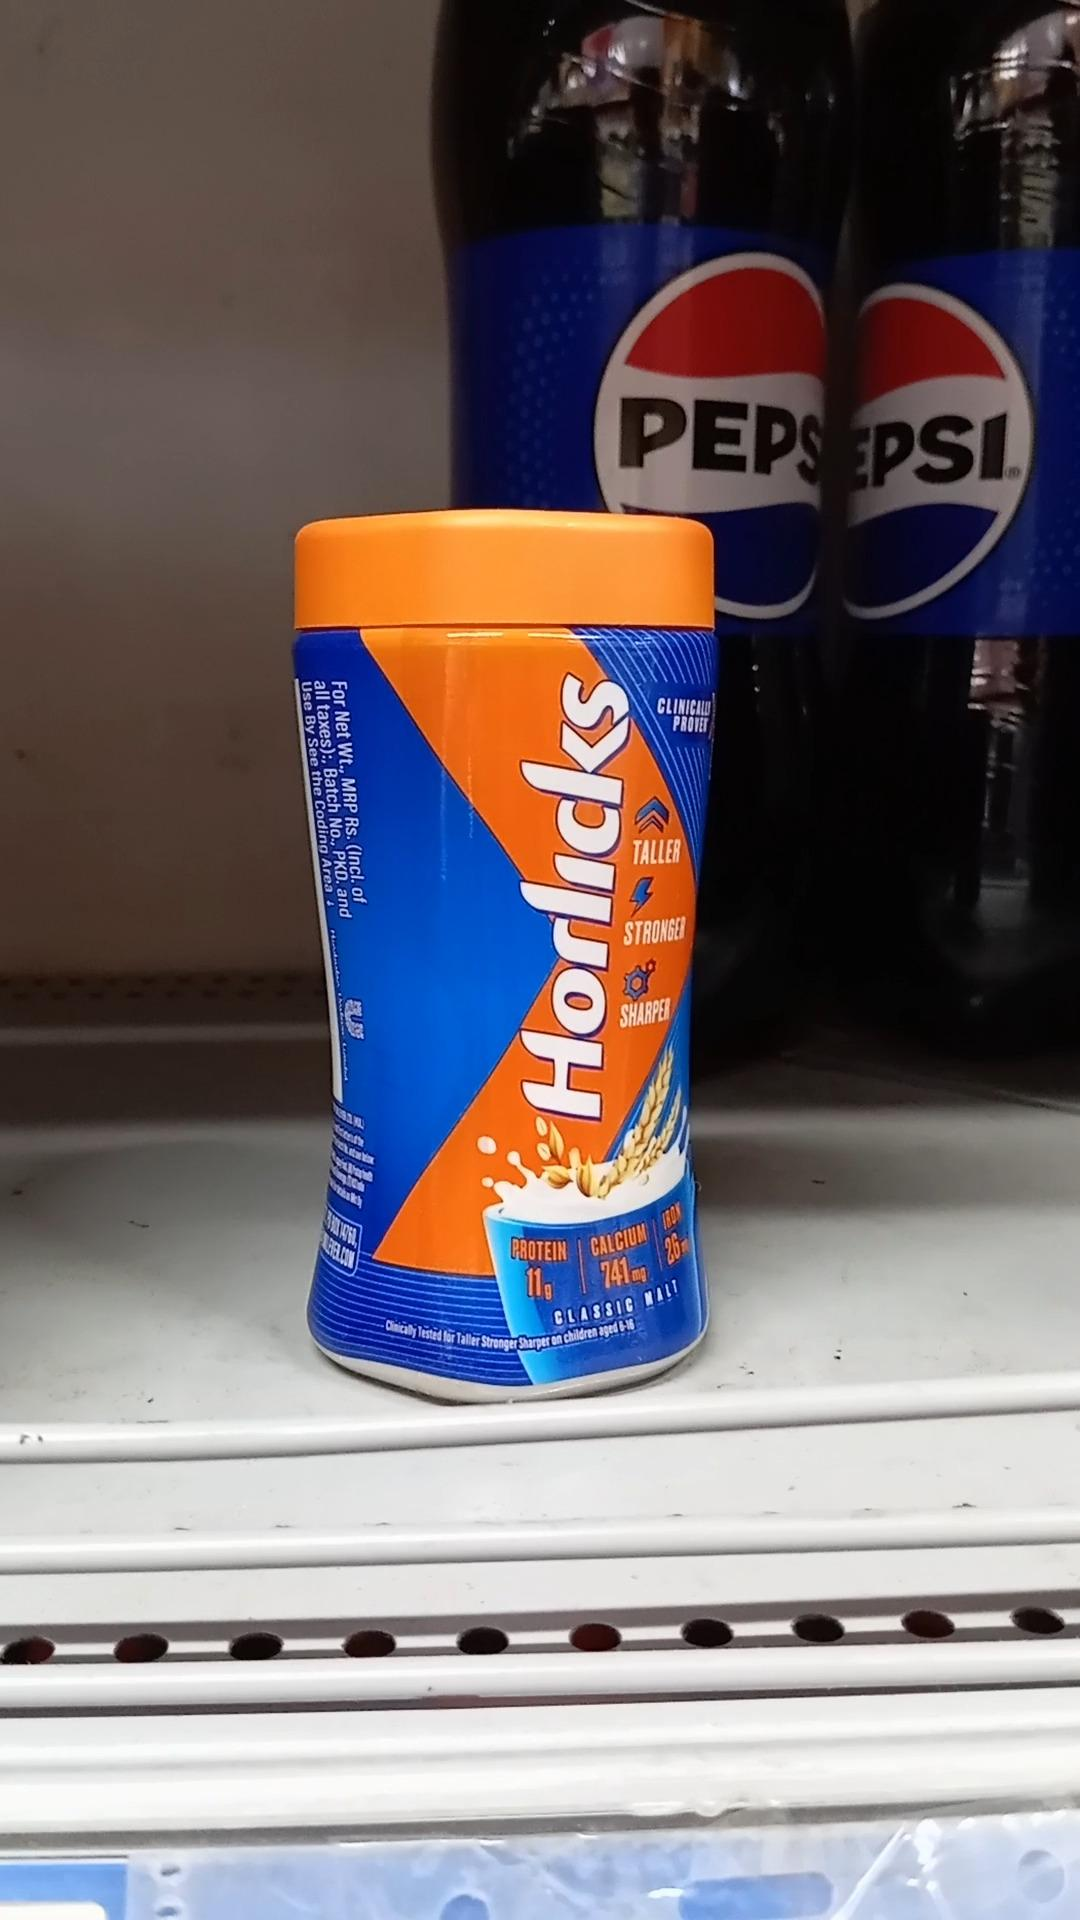HORLICK_CLASSIC_MALT_200_G_JAR: (295, 505, 731, 1422)
